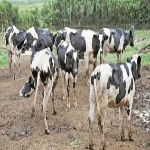Animal: (90, 55, 142, 139), (21, 48, 55, 133), (56, 27, 106, 62), (57, 40, 80, 108), (100, 25, 135, 62), (4, 24, 32, 68), (33, 25, 57, 52)
Uncultivated: (1, 22, 149, 150)
